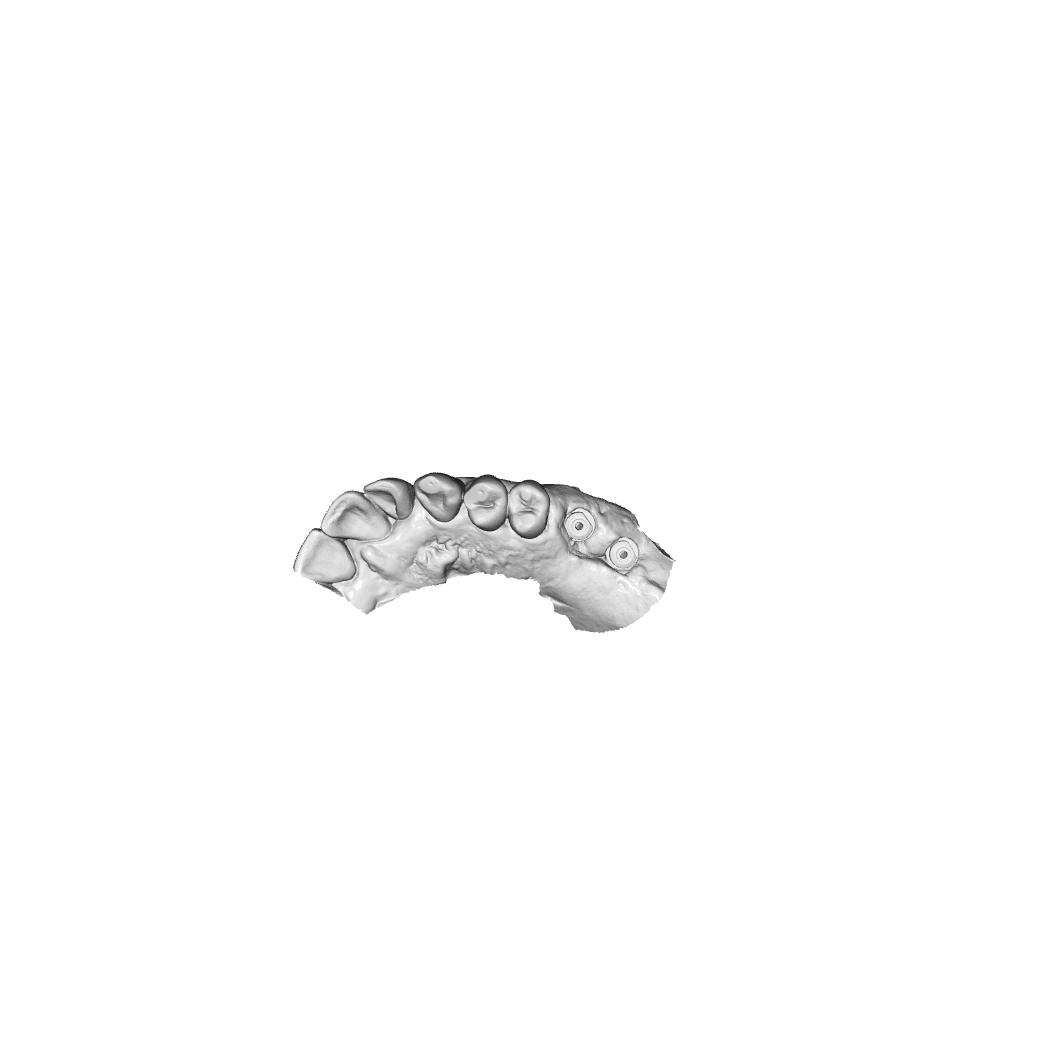canine: (413, 472, 466, 524)
implant: (605, 535, 640, 574), (563, 506, 597, 542)
incisor: (292, 527, 358, 586), (320, 490, 392, 542), (363, 476, 416, 521)
premolar: (505, 478, 551, 540), (463, 473, 508, 533)
